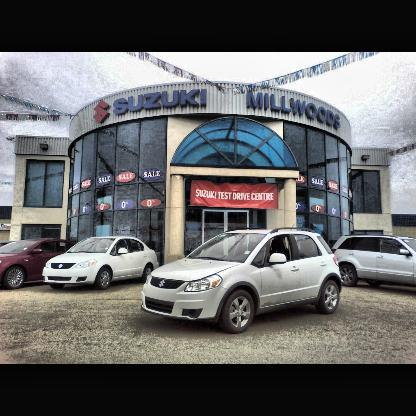Suzuki SX4 Hatchback 2012: (143, 224, 345, 334)
